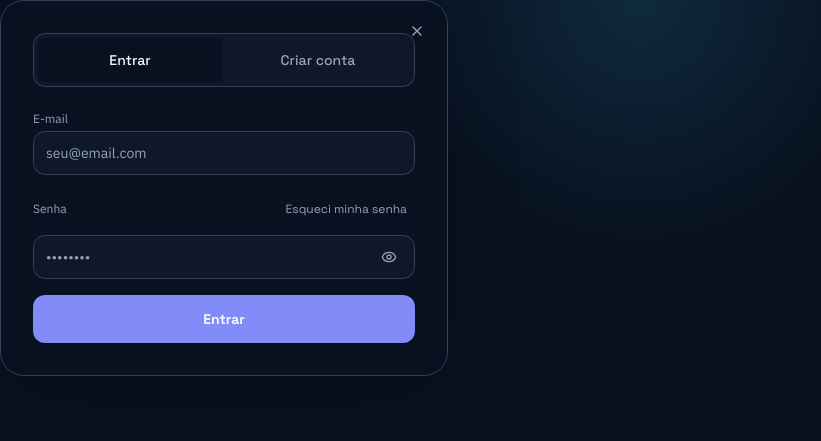
Test: AuthPanel — estado pós-cadastro (confirmação pendente) › exibe botão "Reenviar e-mail" no estado pós-cadastro
Click the button "Criar conta": click(318, 60) [226,38,410,82]
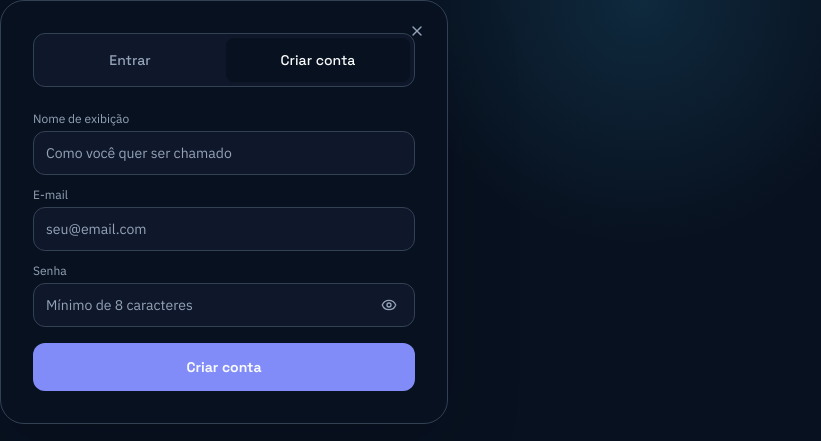
In the field with placeholder "Como você quer ser chamado": (224, 153) [33,131,415,175], type "Teste"
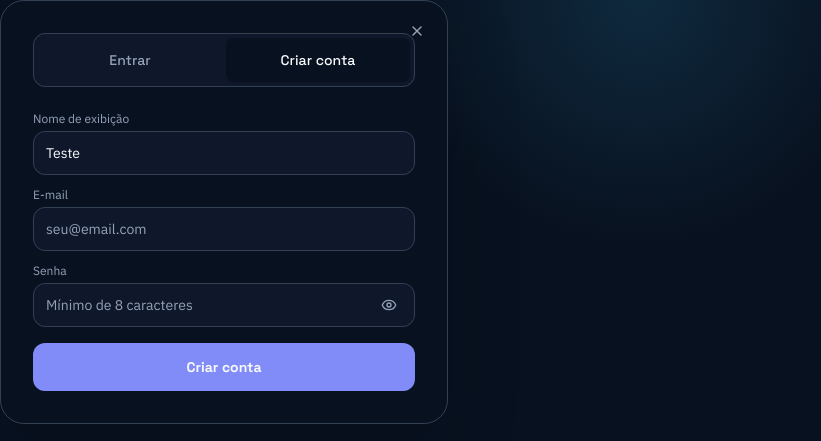
In the field with placeholder "seu@email.com": (224, 229) [33,207,415,251], type "novo@email.com"
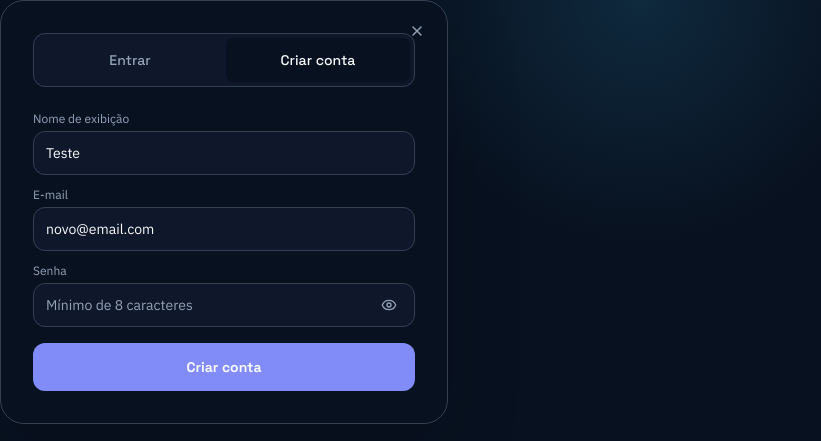
In the password field with placeholder "Mínimo de 8 caracteres": (224, 305) [33,283,415,327], type "senha12345"
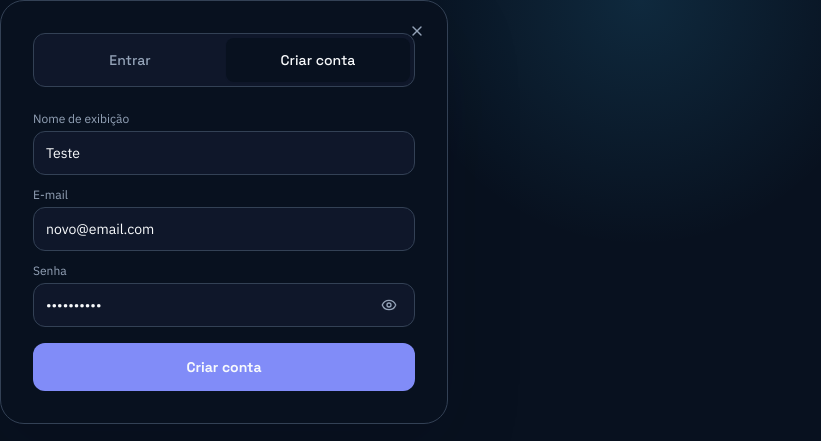
Submit the form, box [33,111,415,391]
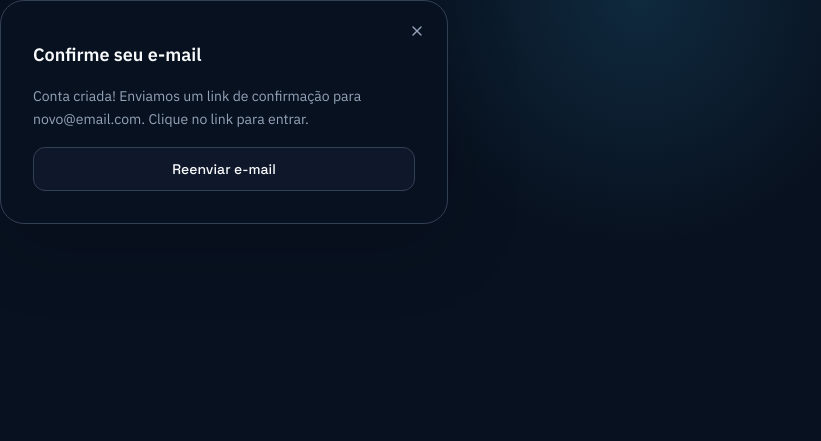
expect the button "Reenviar e-mail" is shown: met, box [33,146,415,190]
